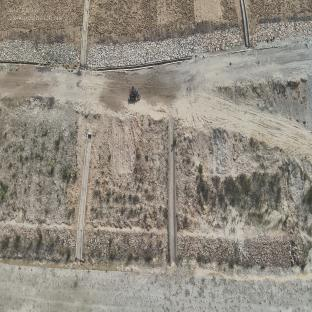rock_toe: (86, 27, 243, 67), (178, 237, 302, 269), (82, 228, 168, 260), (0, 226, 76, 258), (0, 40, 79, 66), (249, 19, 312, 44)
slope_drain: (76, 133, 93, 262), (168, 119, 178, 266), (80, 0, 90, 67), (240, 0, 250, 47)
toe_drain: (0, 42, 280, 74), (1, 255, 303, 282)
